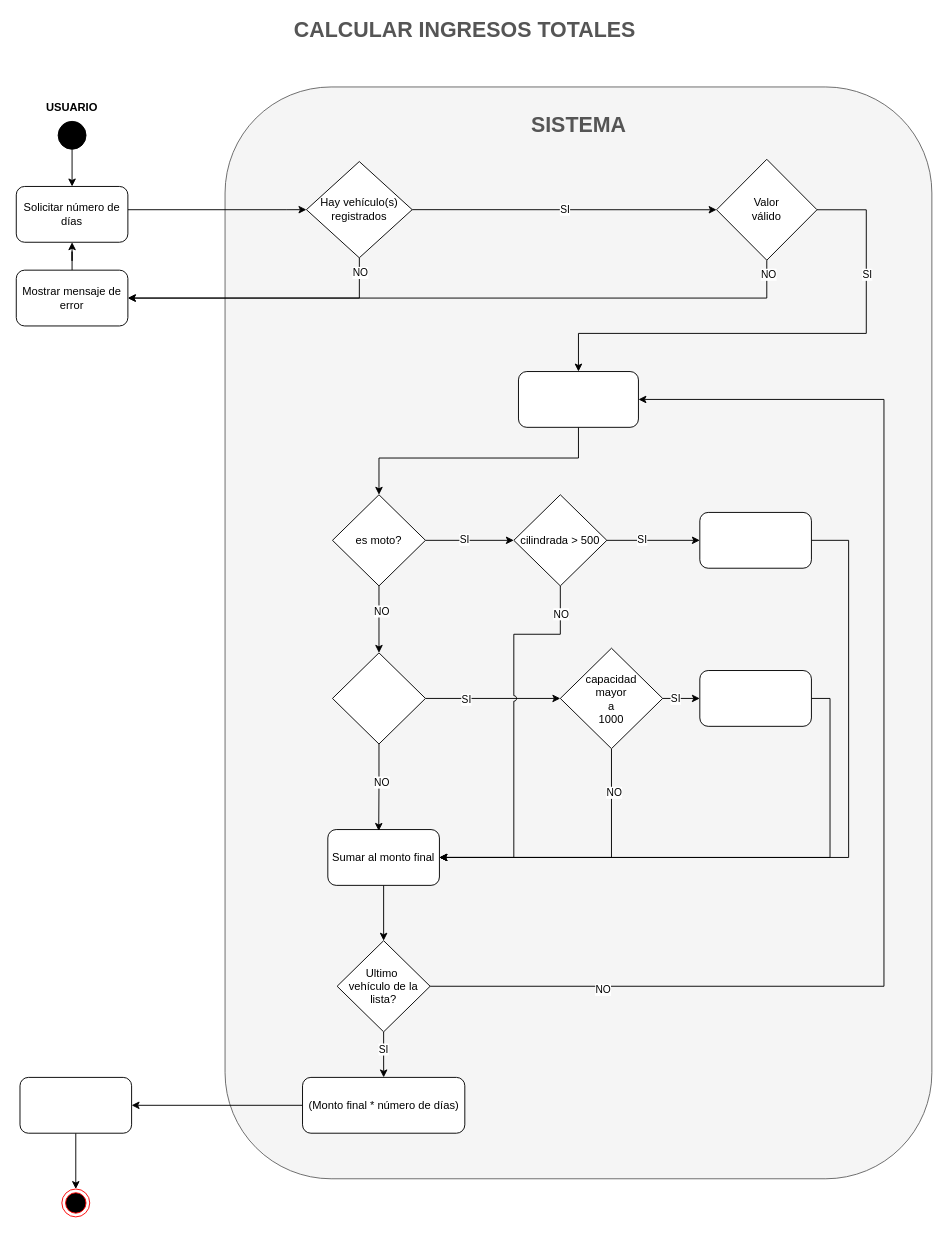
The diagram is 949 pixels wide and 1233 high, and some of its shapes have lost their labels. The centre of each missing label's shape, as x and y in pixels:
"es furgoneta?" goes at (x=378, y=698).
"Mostrar operación final" goes at (x=75, y=1104).
"Seleccionar vehículo de la lista" goes at (x=578, y=399).
"Sumar 10 euros" goes at (x=755, y=698).
"Sumar 5 euros" goes at (x=755, y=540).
